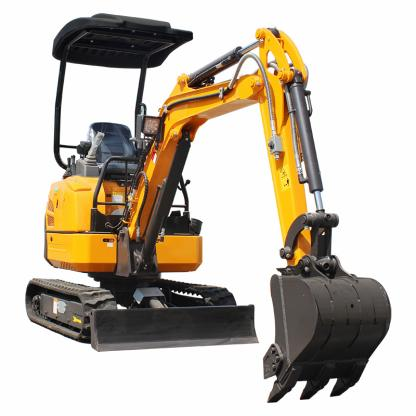excavator: (24, 11, 393, 402)
